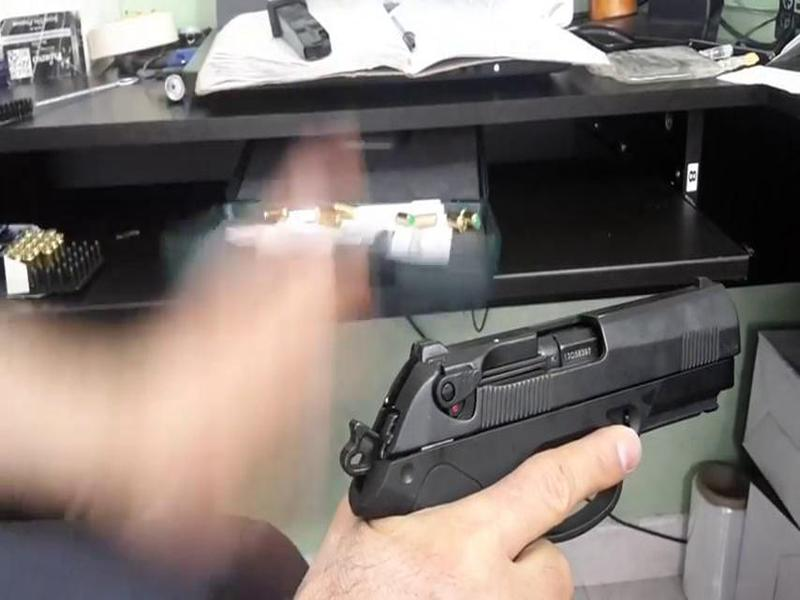Pistola: (347, 273, 761, 548)
